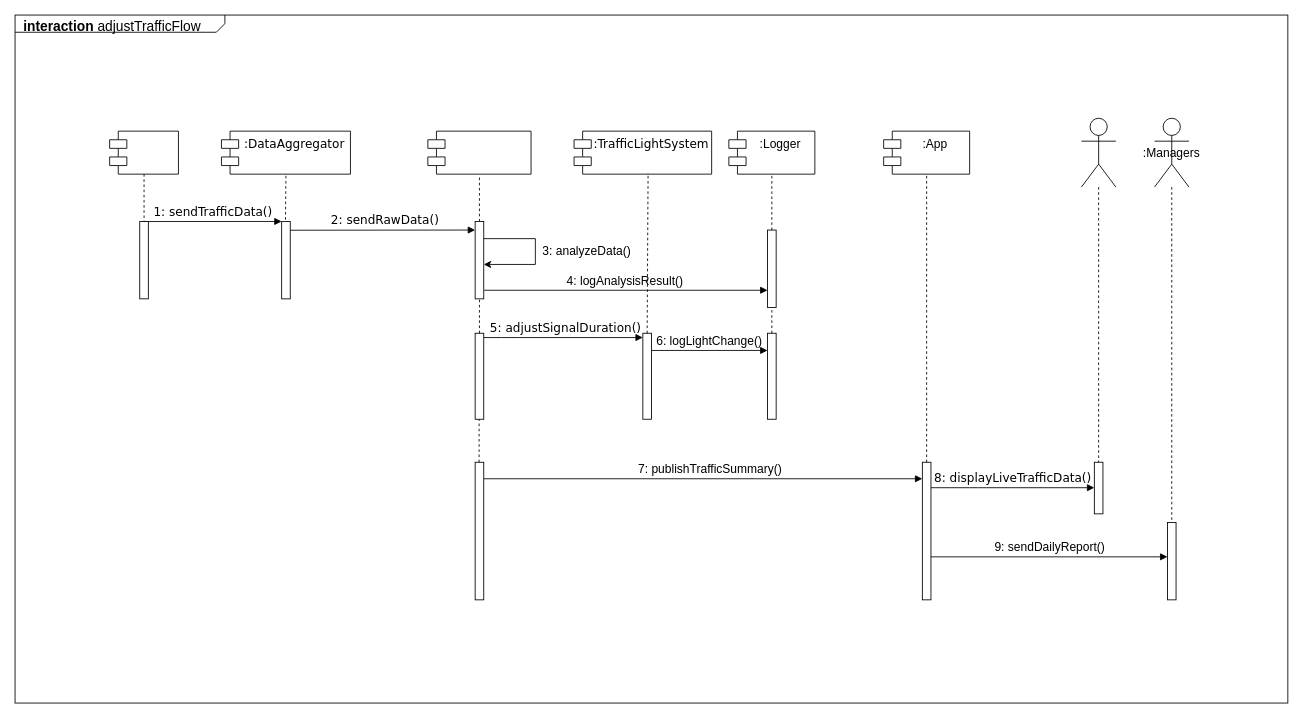
This 1303x718 diagram has some shape labels left out. The shapes that lost their labels are listed below. From the top down, each one's box as (x1, y1, x2, y2) in pixels, then its label:
(109, 130, 178, 174): :Sensor
(427, 130, 531, 174): :TrafficAnalyzer
(1081, 117, 1116, 479): :Citizens
